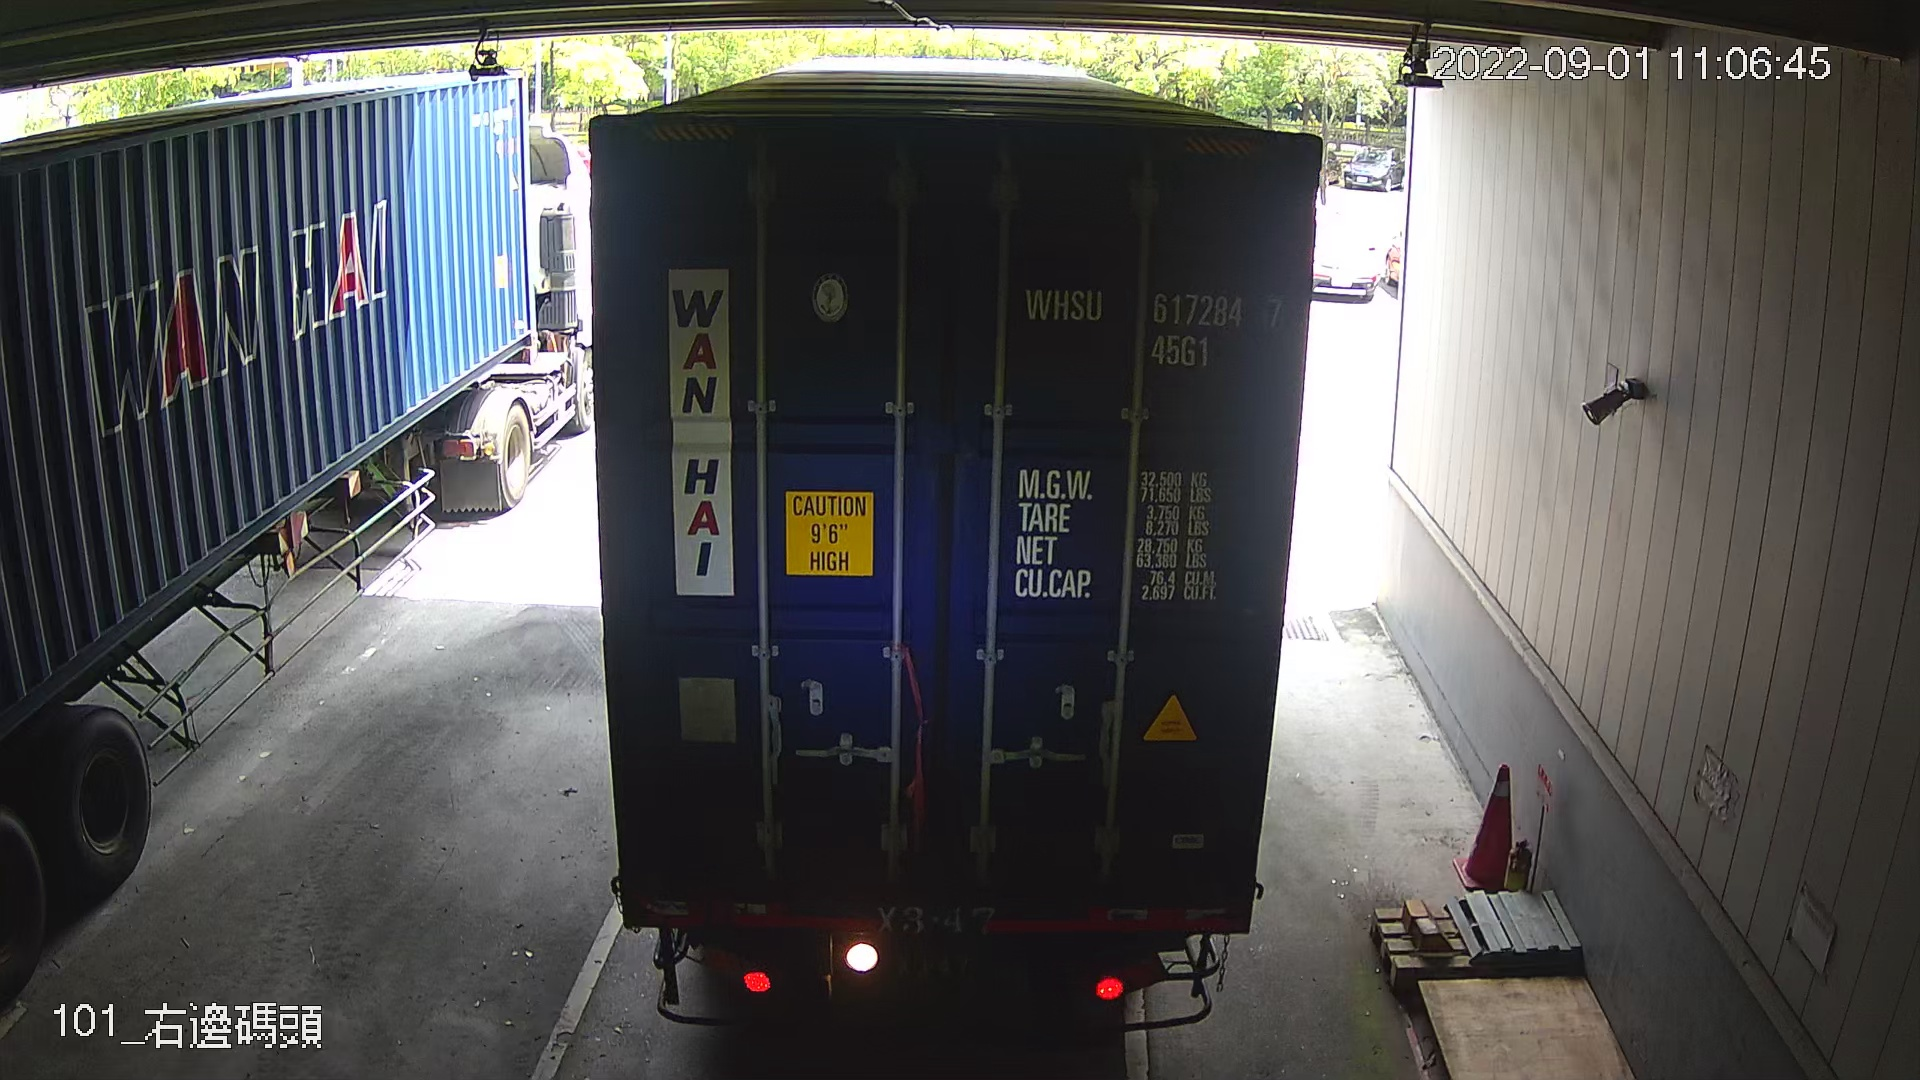container: (1015, 273, 1298, 382)
